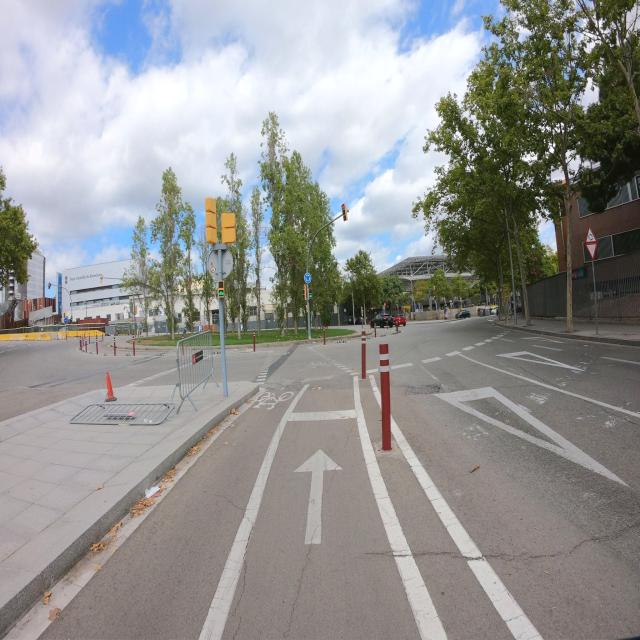car: (370, 312, 394, 329), (455, 309, 472, 320), (490, 305, 498, 316)
